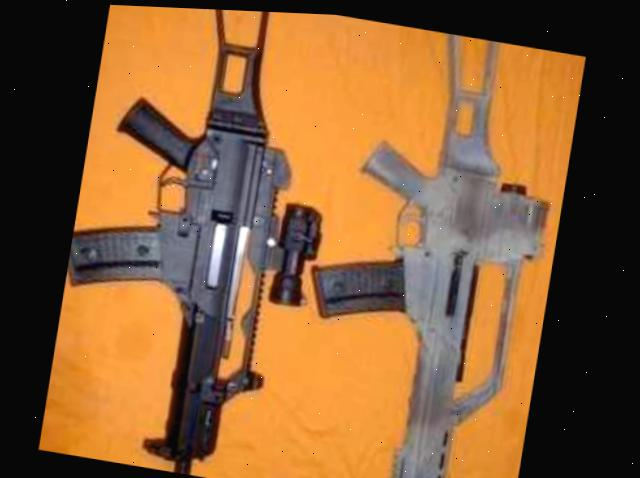rifle: (40, 2, 366, 478), (266, 10, 585, 478)
